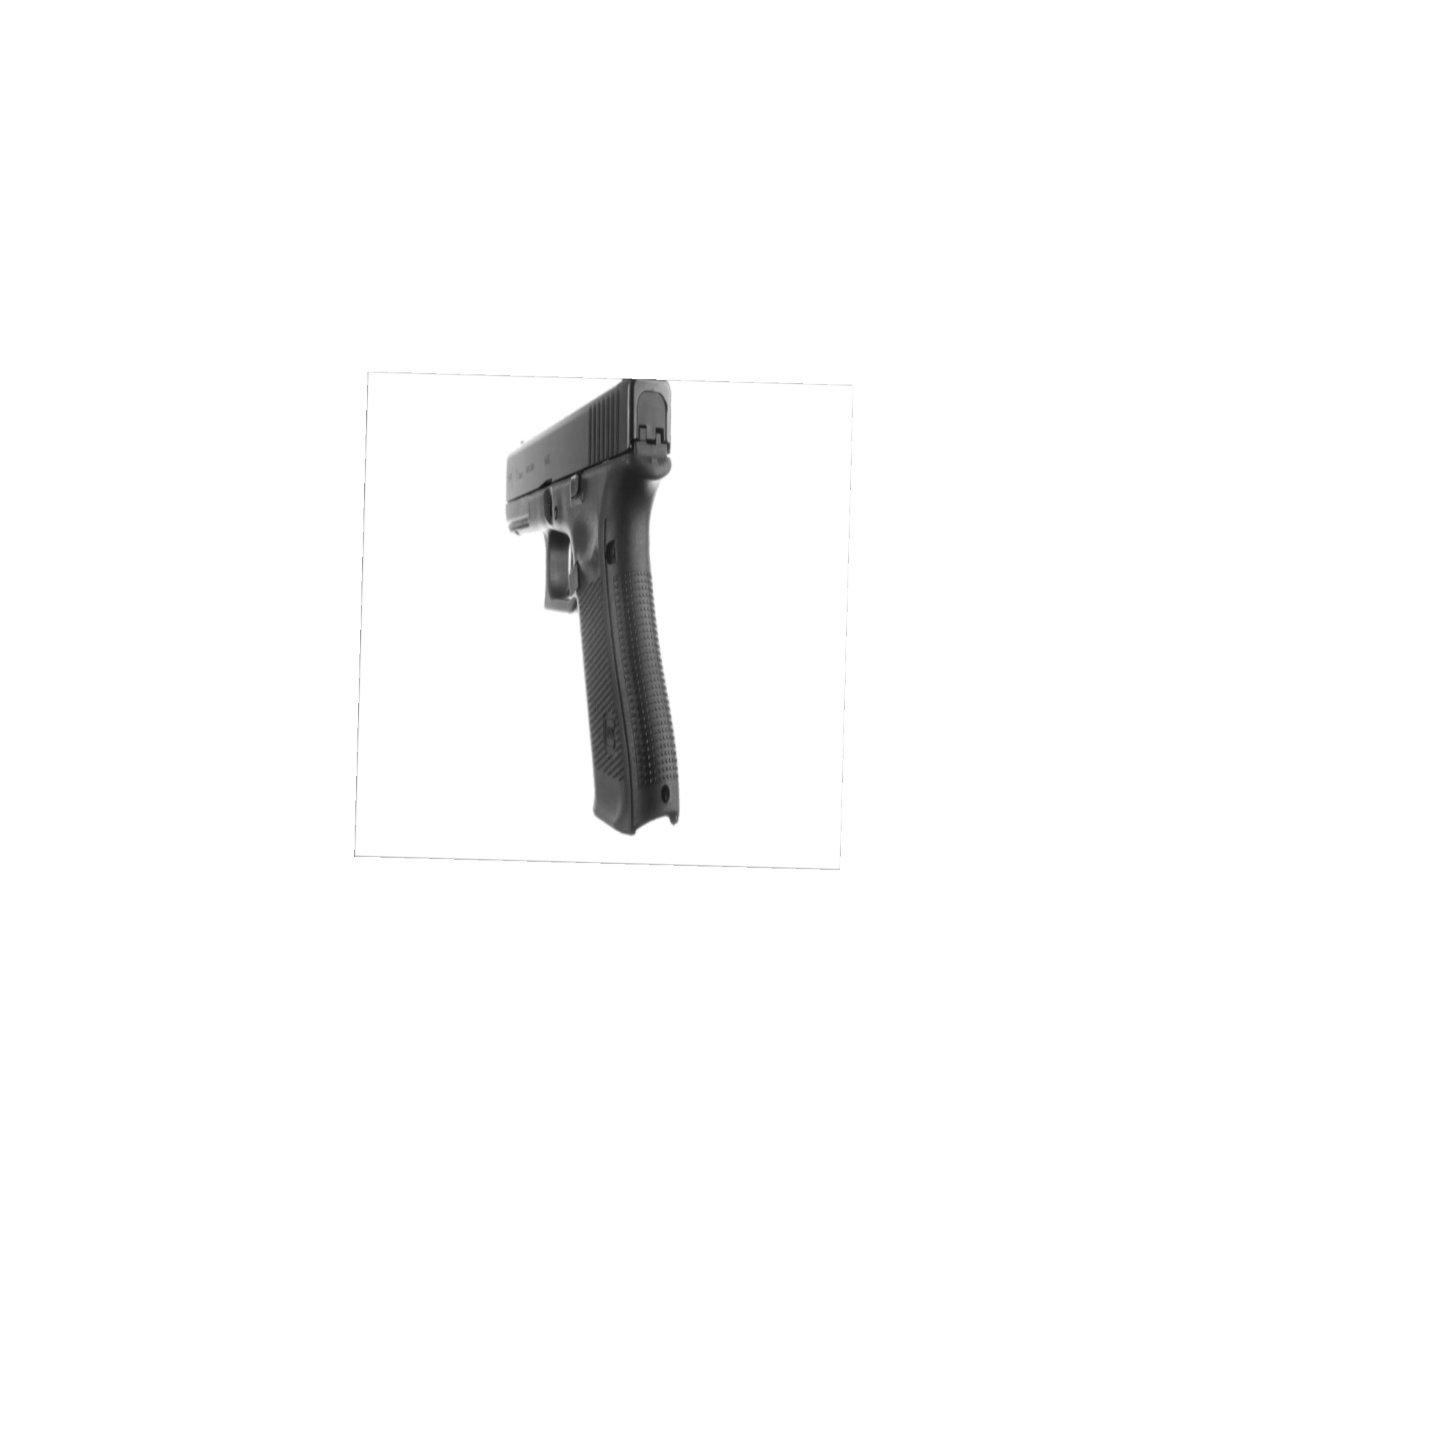gun: (507, 379, 683, 832)
